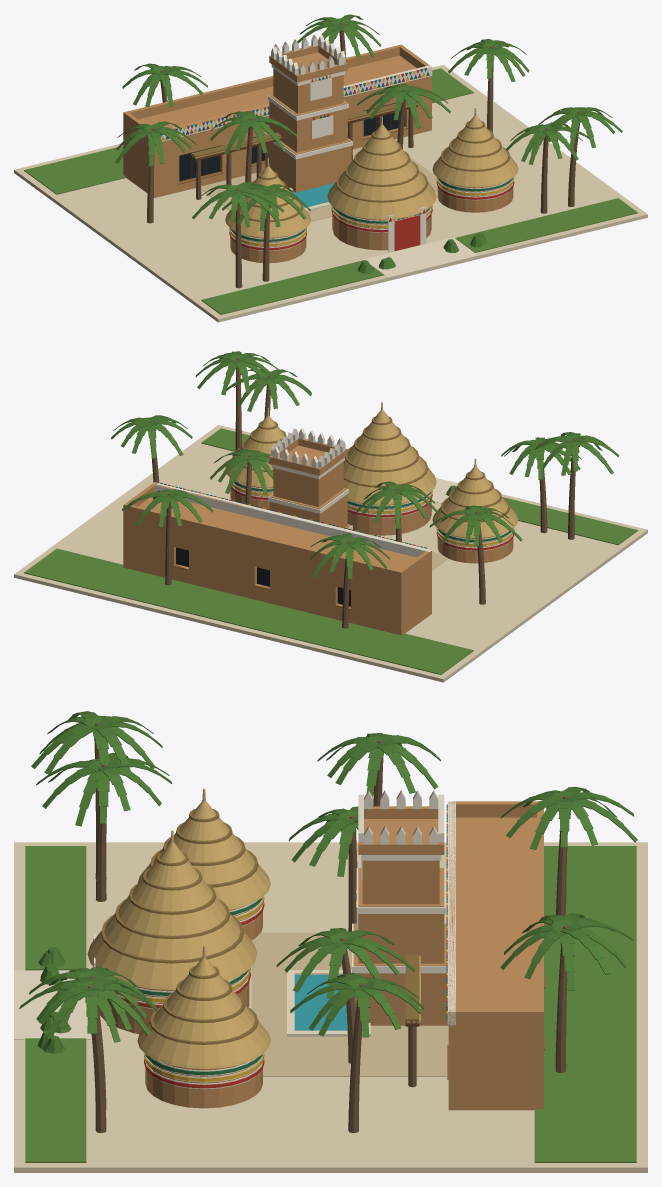
The model's file is jazani.glb.
3 renders of one model, top to bottom at view 1: azimuth 30°, elevation 25°; view 2: azimuth 150°, elevation 25°; view 3: azimuth 270°, elevation 25°, orthographic. The views are drawn at different scales.
Visible parts, largest first — view 1: Jazani_pave, Jazani_mud, Jazani_leaf, Jazani_reed, Jazani_lawn, Jazani_lime, Jazani_trunk, Jazani_reed_d, Jazani_coping, Jazani_glass, Jazani_court, Jazani_red (+4 smaller); view 2: Jazani_mud, Jazani_pave, Jazani_lawn, Jazani_leaf, Jazani_reed, Jazani_lime, Jazani_trunk, Jazani_reed_d, Jazani_red, Jazani_glass, Jazani_ochre, Jazani_green; view 3: Jazani_pave, Jazani_mud, Jazani_lawn, Jazani_leaf, Jazani_reed, Jazani_court, Jazani_lime, Jazani_trunk, Jazani_reed_d, Jazani_coping, Jazani_water, Jazani_green (+2 smaller).
Boxes of the visible parts, <box> form: Jazani_pave: <box>14,65,647,322</box>; Jazani_mud: <box>123,44,513,263</box>; Jazani_leaf: <box>115,14,622,273</box>; Jazani_reed: <box>190,103,518,237</box>; Jazani_lawn: <box>24,68,637,314</box>; Jazani_lime: <box>161,34,513,252</box>; Jazani_trunk: <box>147,22,580,288</box>; Jazani_reed_d: <box>191,99,510,222</box>; Jazani_coping: <box>289,187,478,277</box>; Jazani_glass: <box>179,103,404,181</box>; Jazani_court: <box>201,147,437,221</box>; Jazani_red: <box>175,70,514,250</box>; Jazani_mud: <box>123,437,513,635</box>; Jazani_pave: <box>14,425,647,682</box>; Jazani_lawn: <box>24,428,637,674</box>; Jazani_leaf: <box>111,351,619,578</box>; Jazani_reed: <box>225,410,518,537</box>; Jazani_lime: <box>153,428,513,558</box>; Jazani_trunk: <box>149,358,576,628</box>; Jazani_reed_d: <box>233,416,510,522</box>; Jazani_red: <box>167,484,513,550</box>; Jazani_glass: <box>176,547,350,606</box>; Jazani_ochre: <box>171,477,514,546</box>; Jazani_green: <box>160,481,510,547</box>; Jazani_pave: <box>14,842,647,1172</box>; Jazani_mud: <box>99,801,543,1110</box>; Jazani_lawn: <box>25,846,636,1162</box>; Jazani_leaf: <box>19,711,637,1053</box>; Jazani_reed: <box>87,801,420,1068</box>; Jazani_court: <box>251,932,448,1076</box>; Jazani_lime: <box>94,790,455,1089</box>; Jazani_trunk: <box>88,722,567,1133</box>; Jazani_reed_d: <box>101,809,419,1044</box>; Jazani_coping: <box>14,970,370,1039</box>; Jazani_water: <box>294,975,347,1030</box>; Jazani_green: <box>120,807,447,1075</box>.
Size of the model in its own units: 34 by 9.8 by 28.
